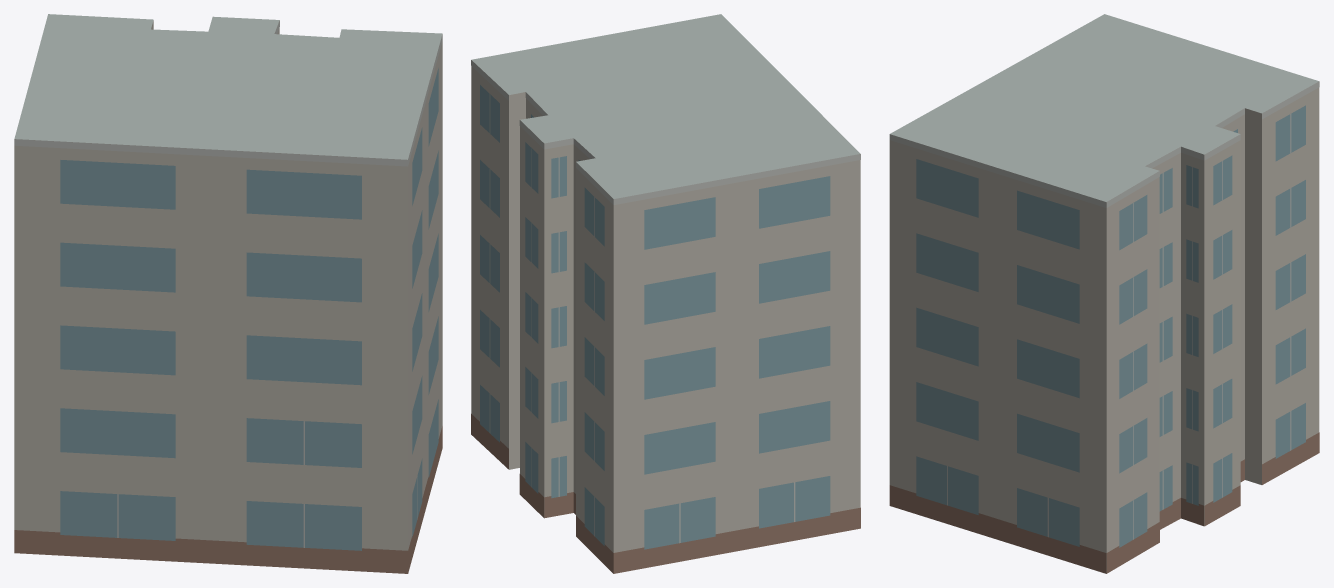
Rendered from survey-upis-32918816.glb.
3 renders of one model, left to right at view 1: azimuth 30°, elevation 25°; view 2: azimuth 150°, elevation 25°; view 3: azimuth 270°, elevation 25°, orthographic. The views are drawn at different scales.
Parts seen in each view (by area): view 1: survey-upis-32918816.tmp; view 2: survey-upis-32918816.tmp; view 3: survey-upis-32918816.tmp.
Part boxes in pixels (x1,y1,x2,y2): survey-upis-32918816.tmp: (14, 14, 442, 573); survey-upis-32918816.tmp: (471, 14, 860, 573); survey-upis-32918816.tmp: (889, 14, 1319, 573).
Bounding box in the file's own units: 16.4 × 15.1 × 15.83.
